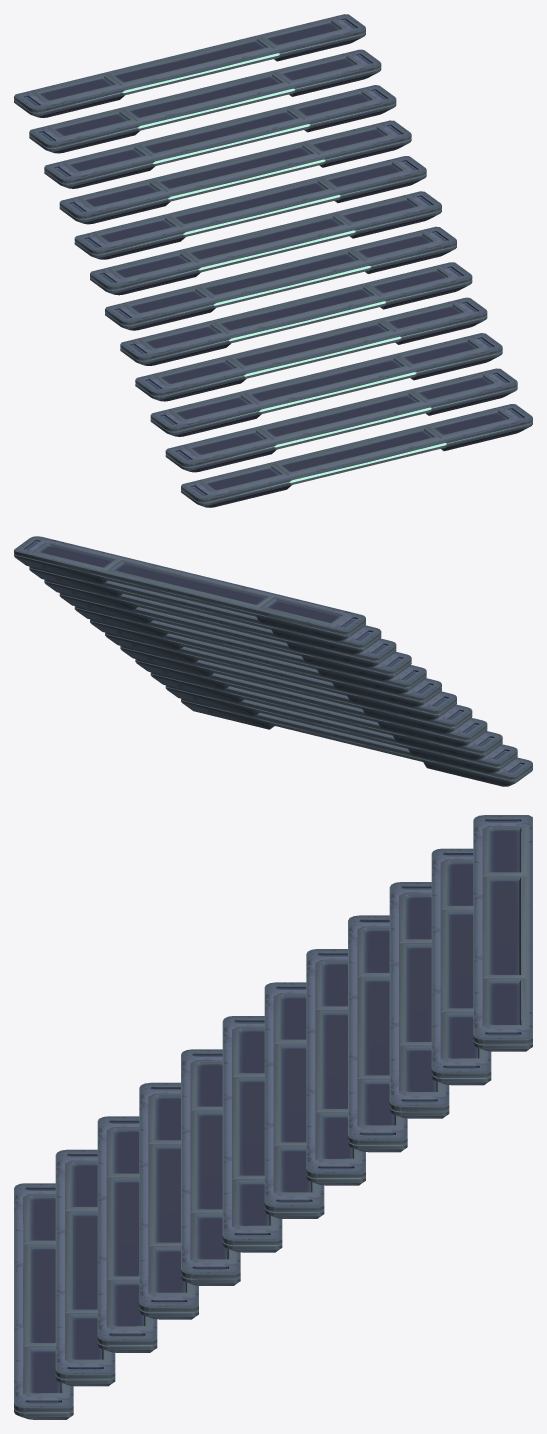
File: stair_low.fbx
3 views of the same model, one above another, from view 1: azimuth 30°, elevation 25°; view 2: azimuth 150°, elevation 25°; view 3: azimuth 270°, elevation 25° (orthographic). The views are drawn at different scales.
Parts seen in each view (by area): view 1: stair_low; view 2: stair_low; view 3: stair_low.
Boxes of the visible parts, x1,y1,x2,y2 form: stair_low: (14, 14, 532, 507); stair_low: (14, 536, 532, 786); stair_low: (14, 815, 532, 1419).
Size of the model in its own units: 300 by 241 by 293.
